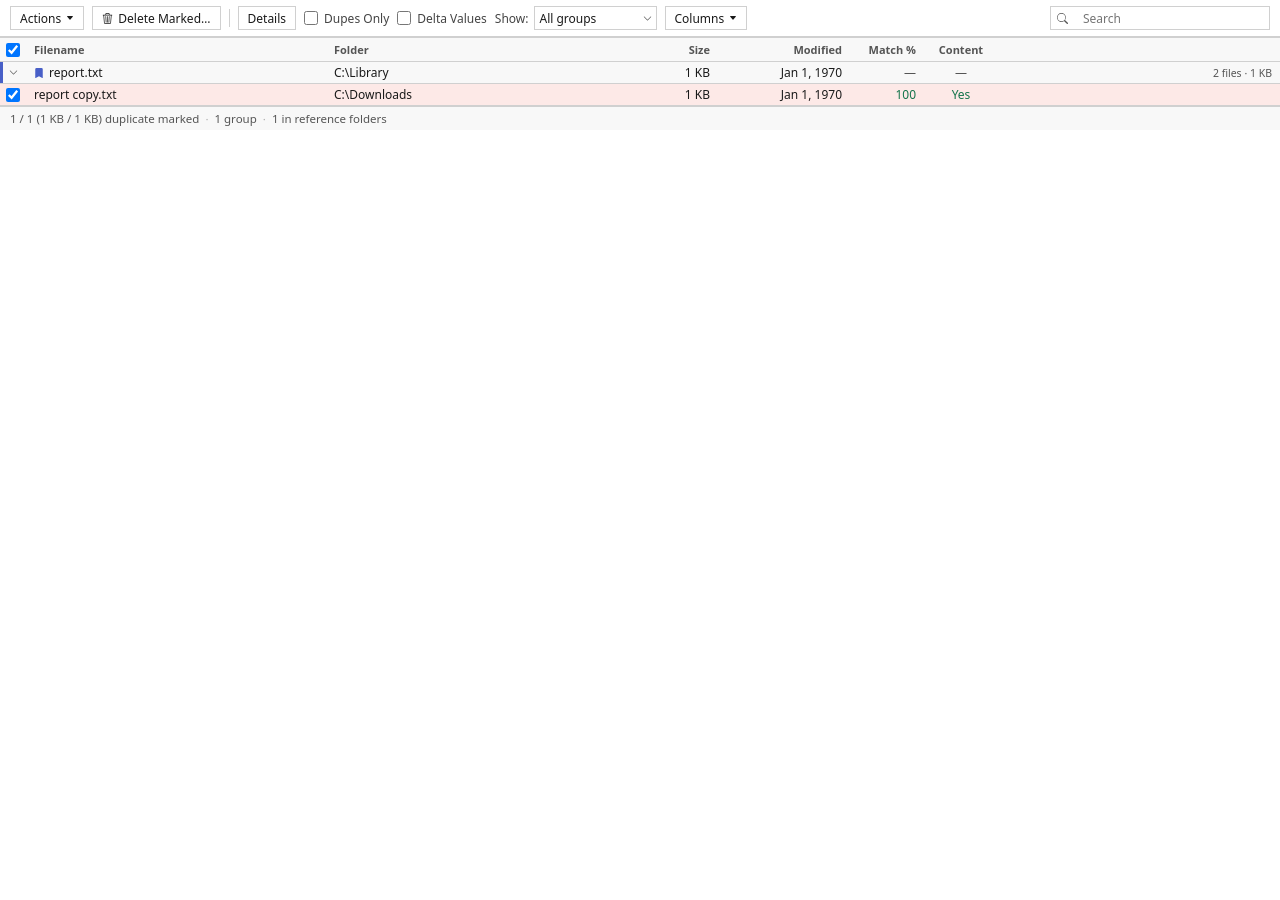
DuplicatesResults review workflow › drives every file action from one toolbar and status line
expect the checkbox labelled "Dupes Only" is shown: met, box top-left (304, 11), bottom-right (318, 25)
expect the checkbox labelled "Delta Values" is shown: met, box top-left (397, 11), bottom-right (411, 25)
Click the button "Actions".
click(47, 18)  # box top-left (10, 6), bottom-right (84, 30)
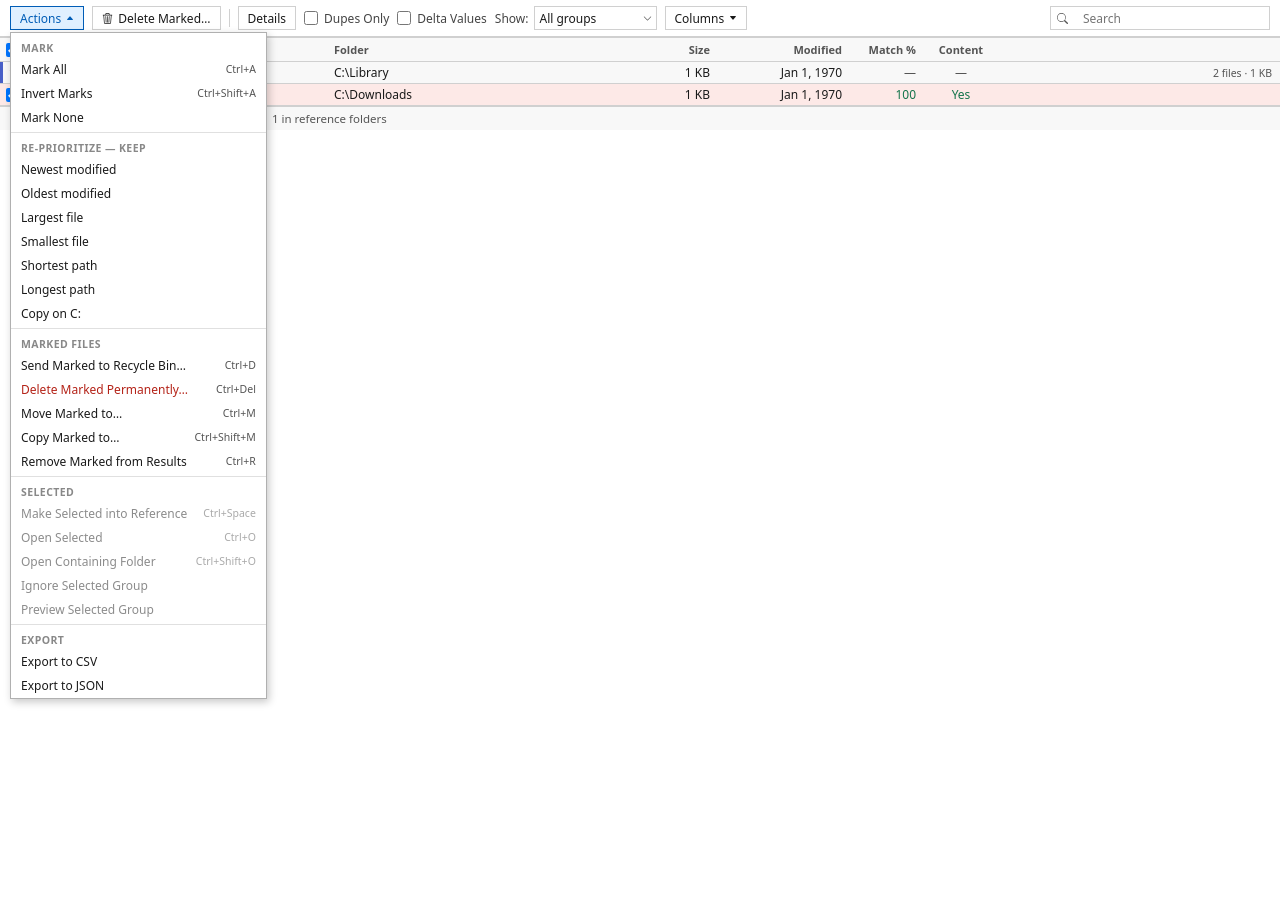
Click the button "Mark All Ctrl+A".
click(138, 69)  # box top-left (11, 57), bottom-right (266, 81)
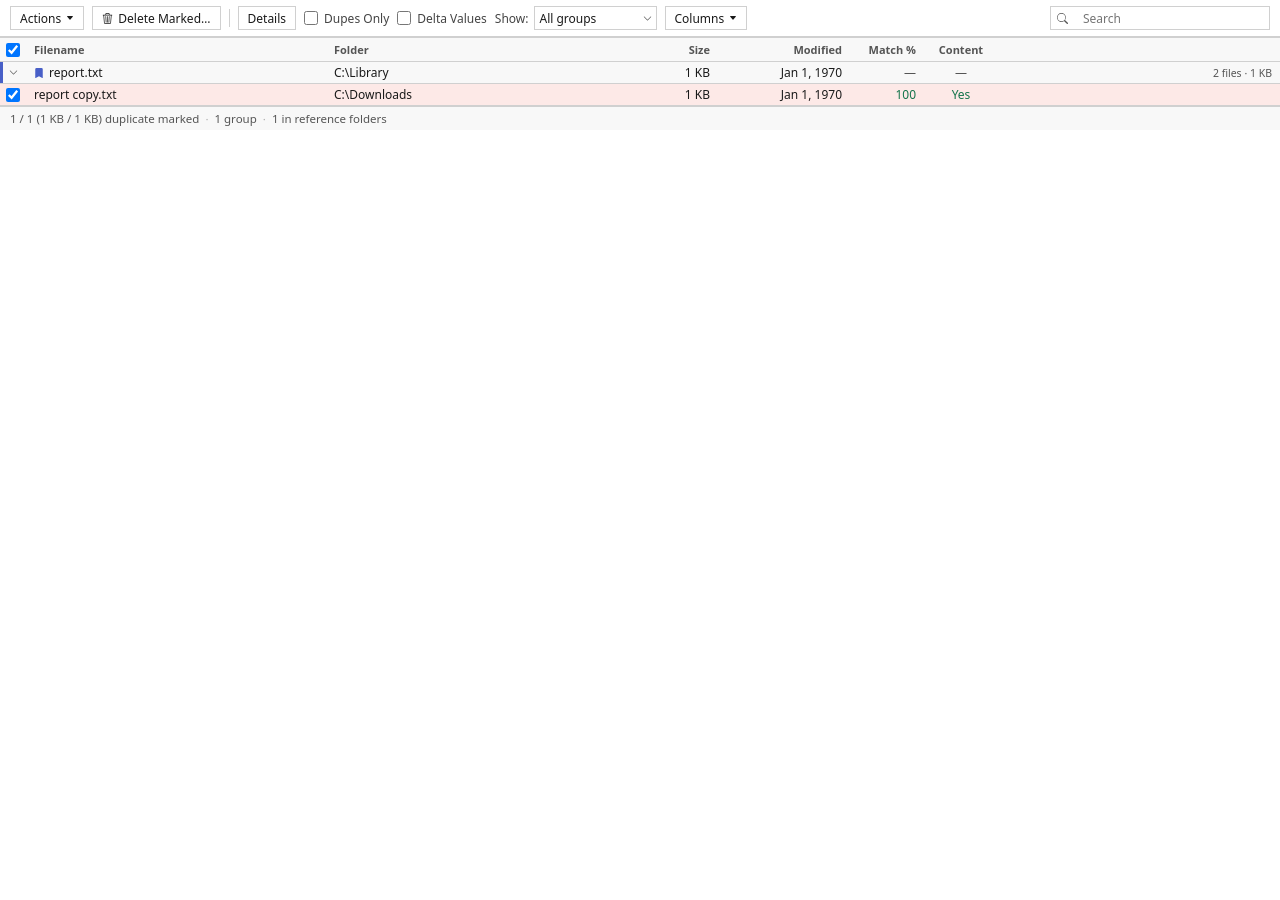
Click the button "Actions".
click(47, 18)  # box top-left (10, 6), bottom-right (84, 30)
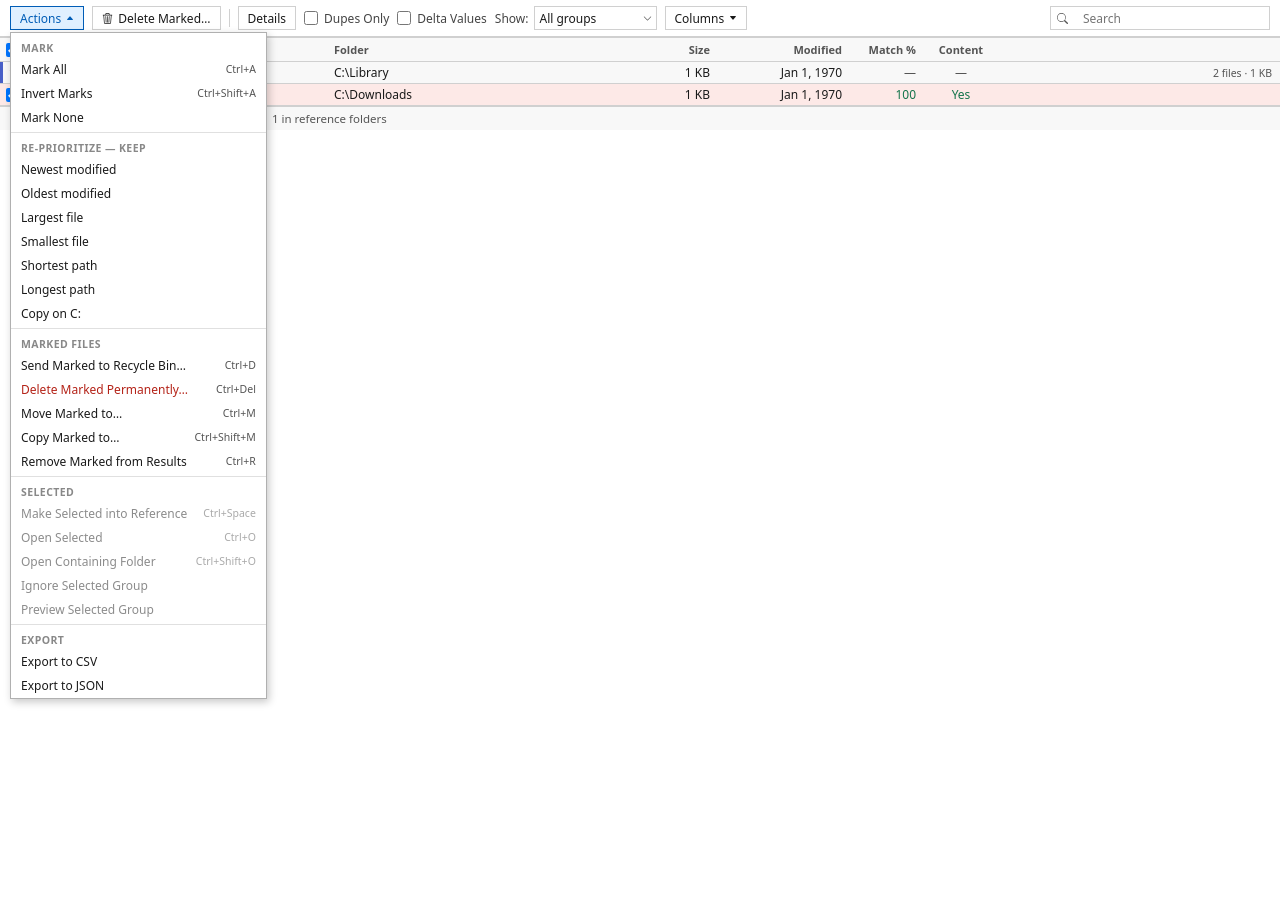
Click the button "Remove Marked from Results Ctrl+R".
click(138, 461)  # box top-left (11, 449), bottom-right (266, 473)
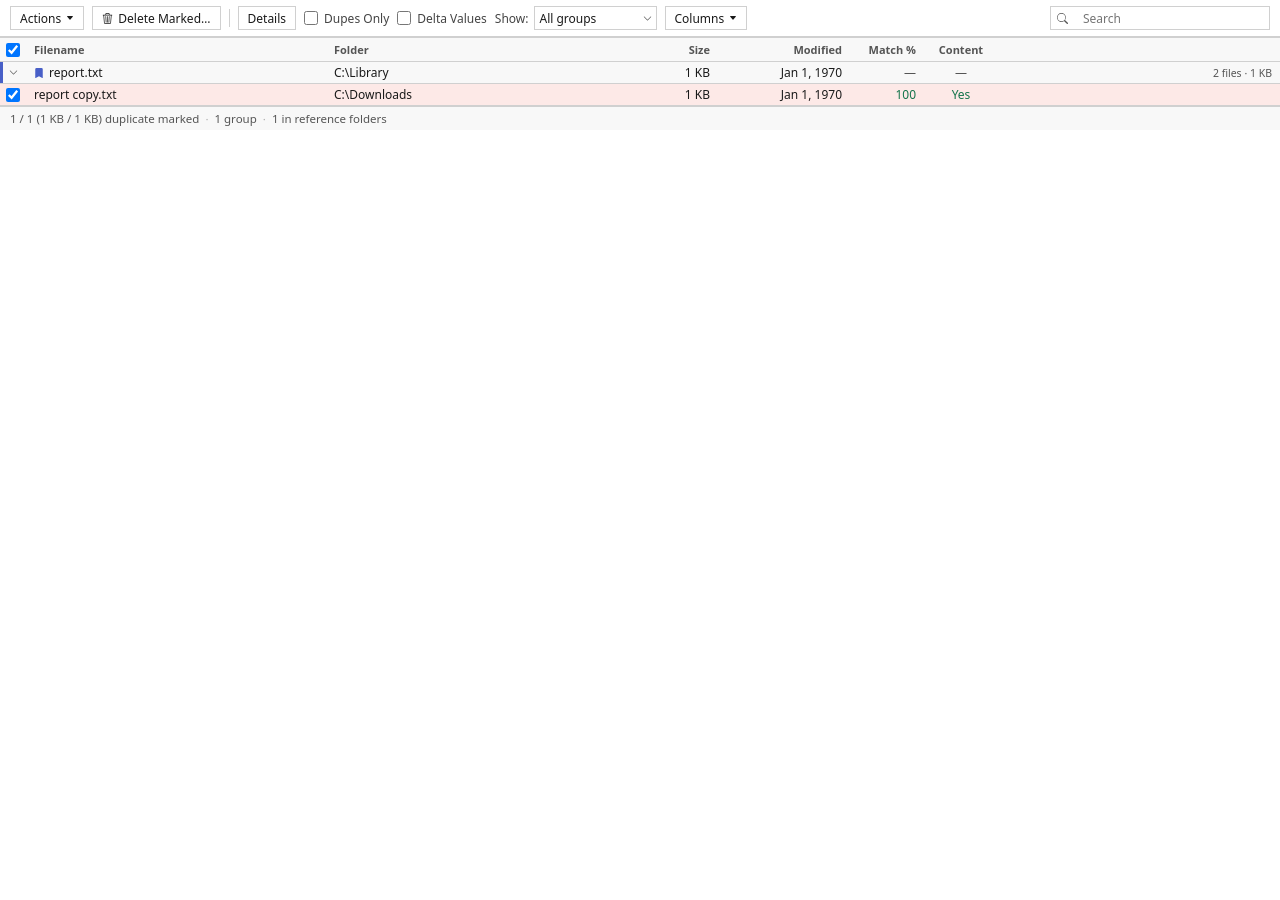
Press Delete in the element named "Duplicate files", box top-left (0, 37), bottom-right (1279, 106)
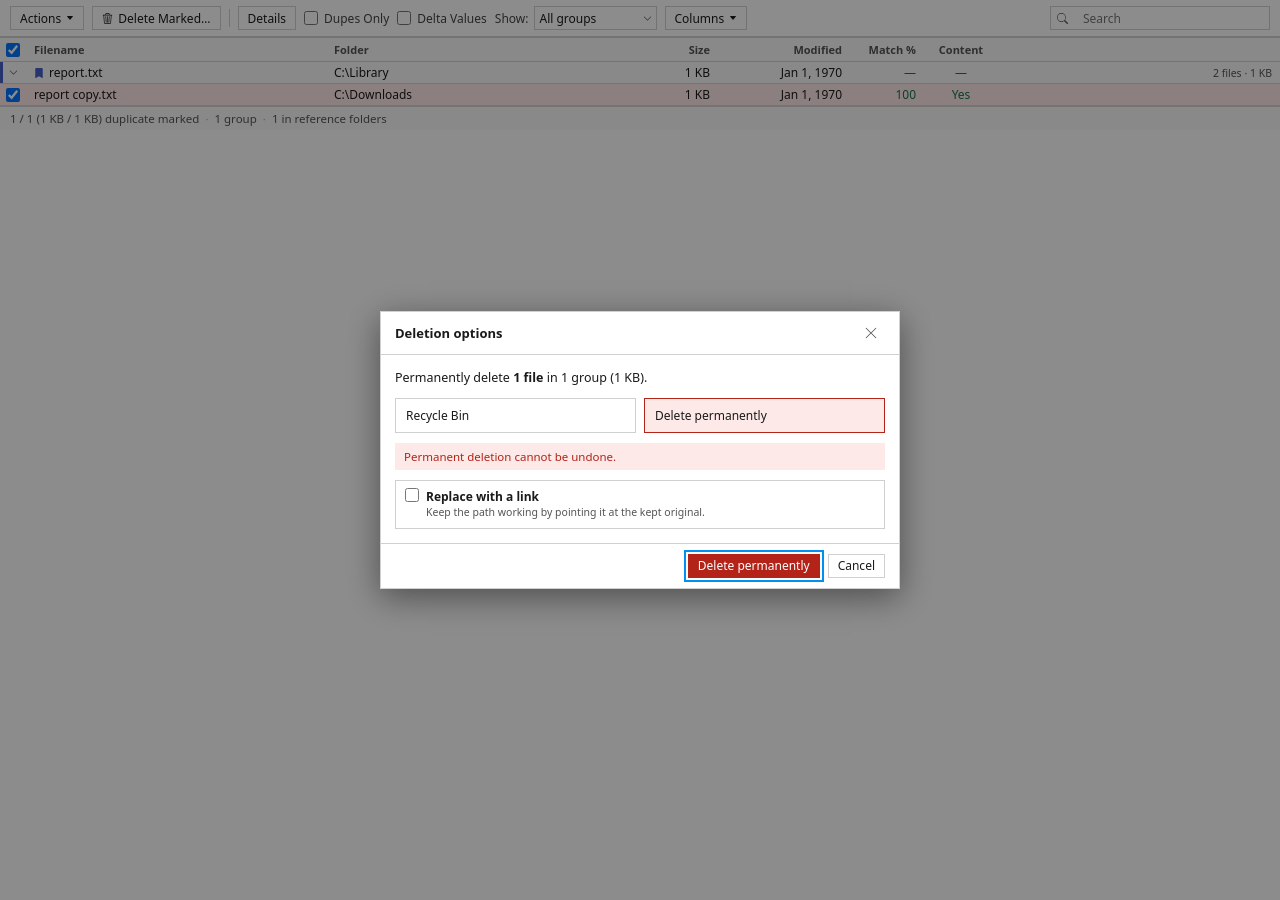
expect the dialog "Deletion options" is shown: met, box top-left (380, 311), bottom-right (900, 589)
